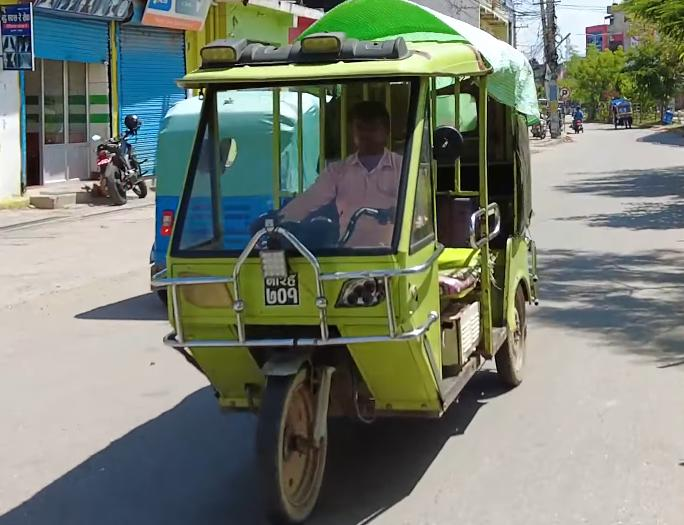bike: (89, 127, 149, 208)
e-rickshaw: (148, 21, 552, 525), (610, 97, 636, 131)
